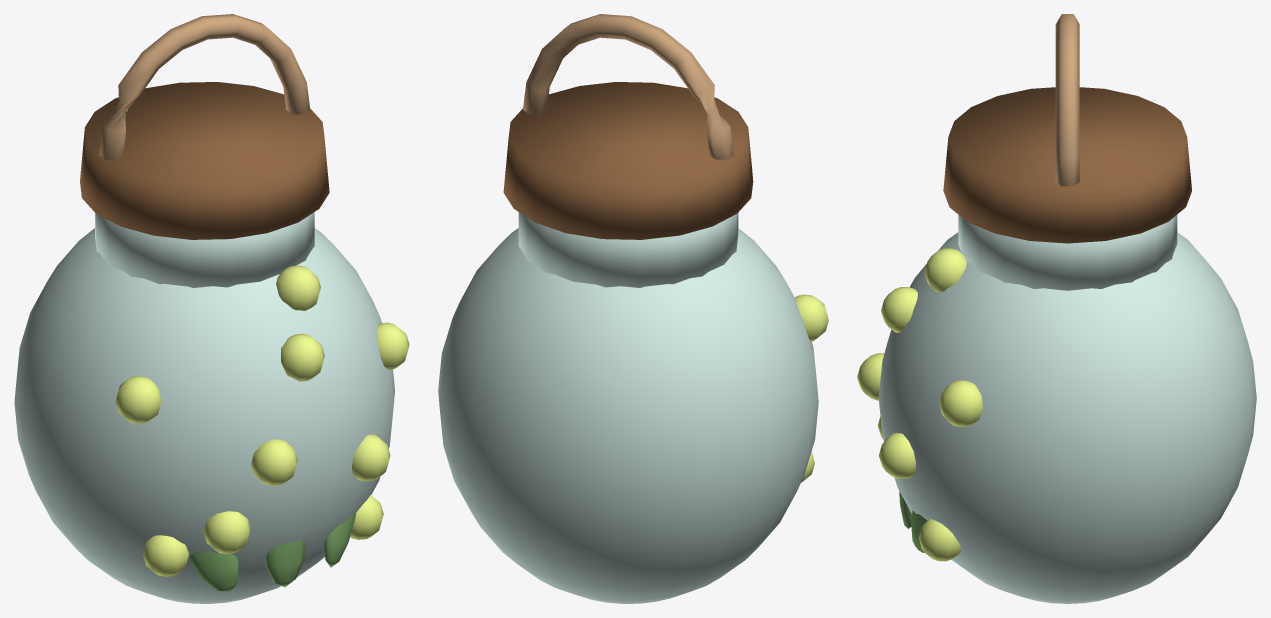
Rendered from firefly-jar.glb.
The picture shows the model from 3 angles, left to right: view 1: azimuth 30°, elevation 25°; view 2: azimuth 150°, elevation 25°; view 3: azimuth 270°, elevation 25°; orthographic projection.
Visible parts, largest first — view 1: jar; view 2: jar; view 3: jar.
Boxes of the visible parts, left/top/right/bottom form: jar: left=14, top=14, right=409, bottom=603; jar: left=438, top=14, right=828, bottom=603; jar: left=857, top=14, right=1256, bottom=603.
Bounding box in the file's own units: 0.38 × 0.6254 × 0.4016.
